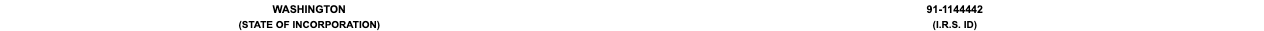table column: (645, 0, 1264, 31), (0, 0, 618, 31), (618, 0, 645, 31)
table row: (0, 0, 1264, 18), (0, 18, 1264, 31)
